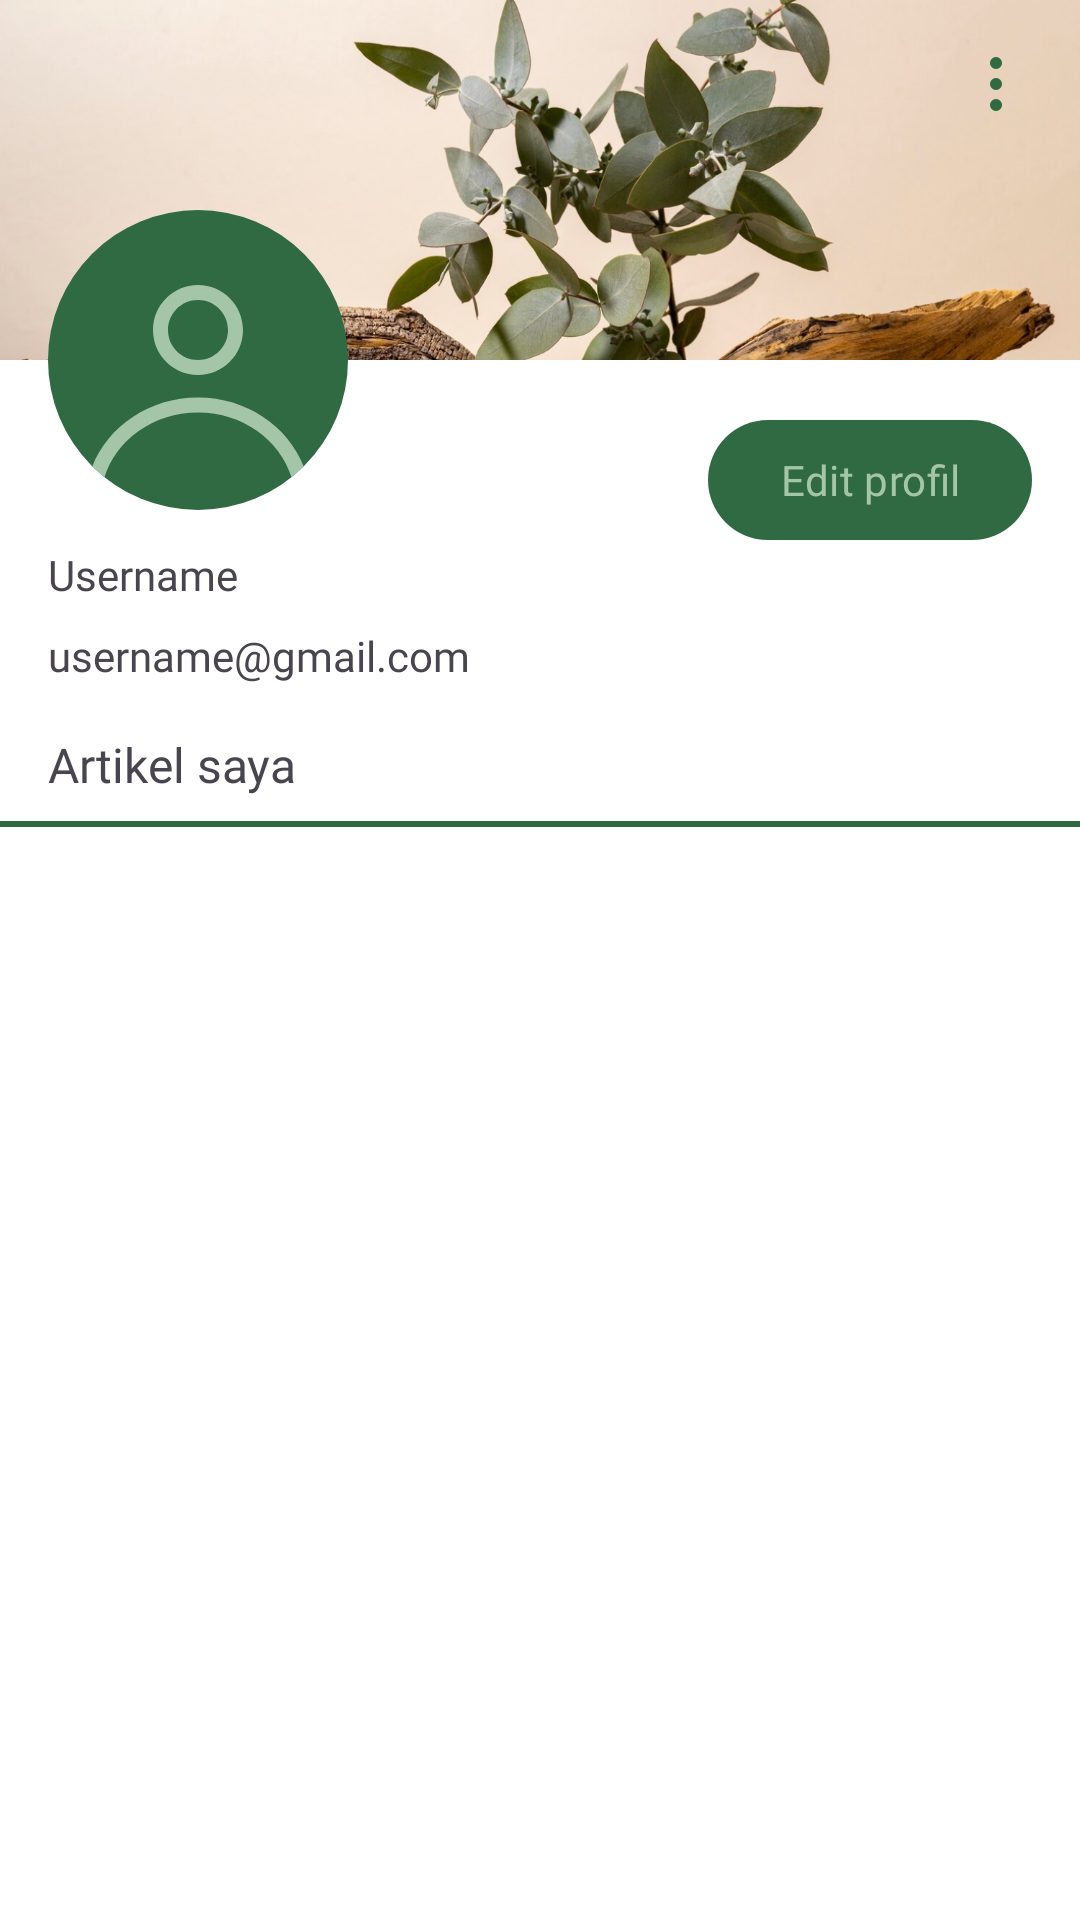

Named icons in this screenshot (1080 × 1920) and their centers, [x,y]:
vertical: [996,84]
